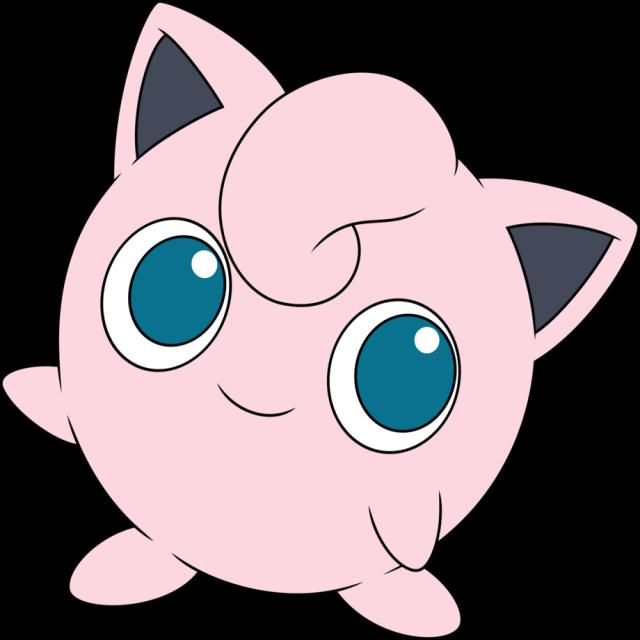Jigglypuff: (17, 21, 640, 640)
